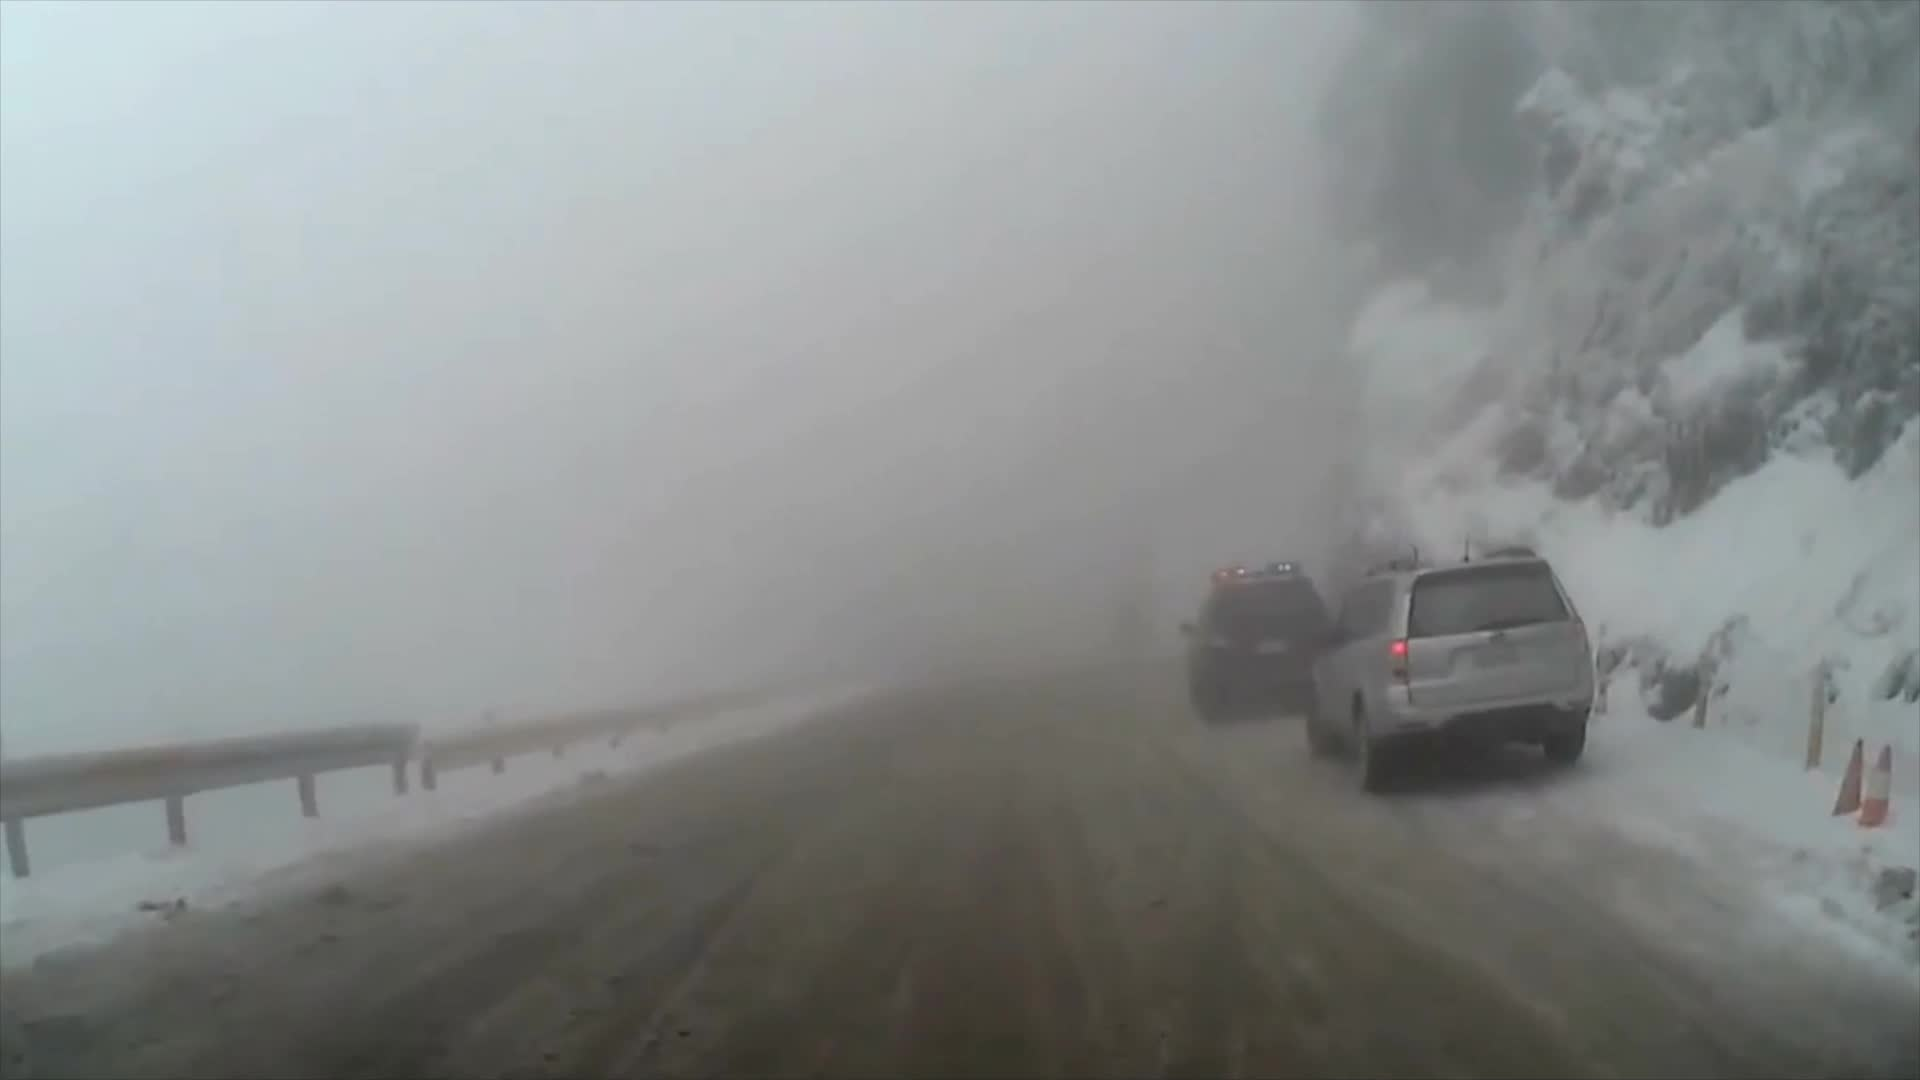vehicle: (1299, 543, 1596, 798), (1176, 556, 1338, 723)
